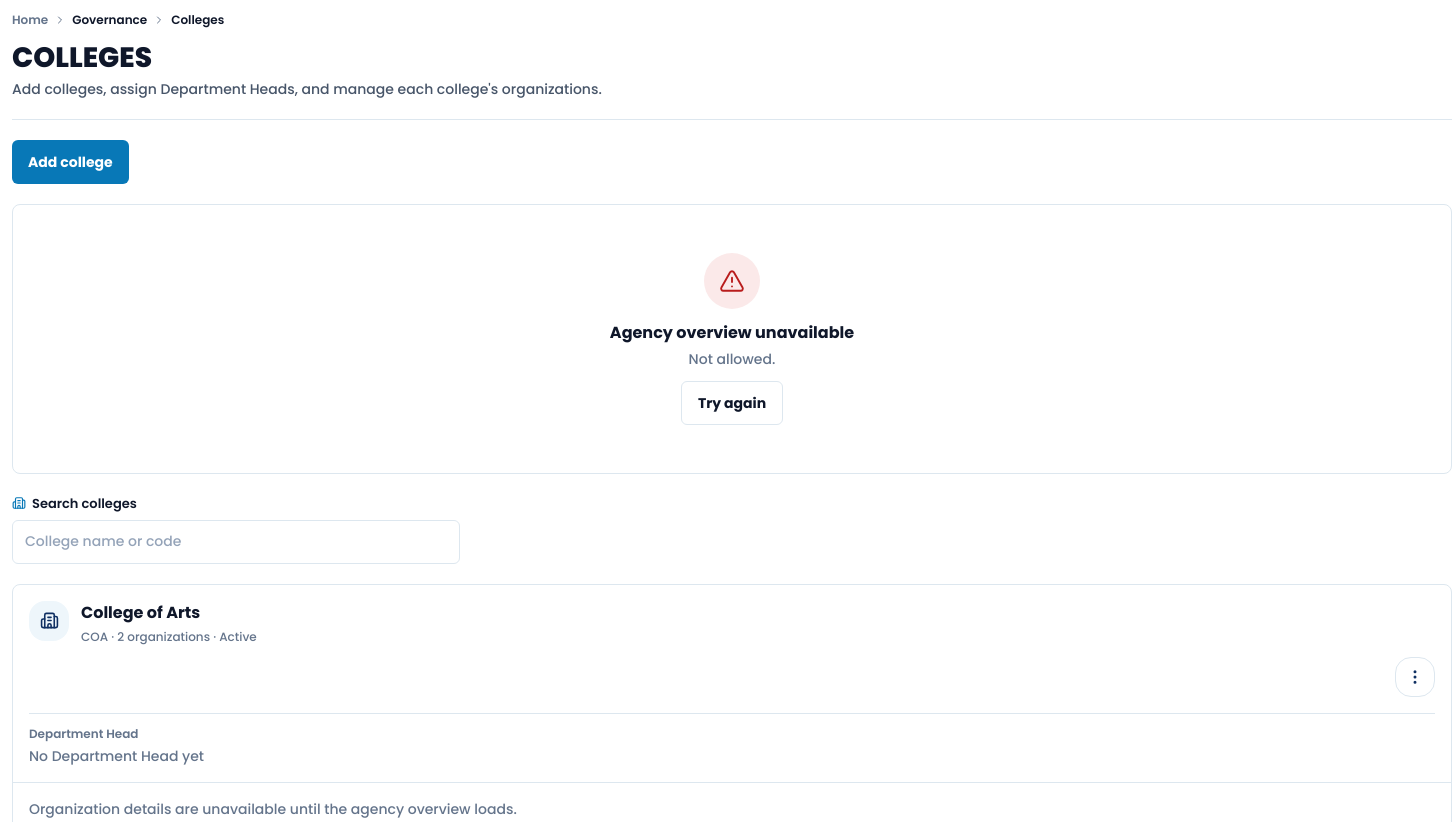
SystemCollegesPage › keeps the college cards and Assign Department Head when only the agency read fails, with an inline error and retry in place of the tiles
Expected: the heading "College of Arts" is shown, [81,600,200,624]
Click the button named "Actions for " at coordinates (1415, 676), box [1395,656,1435,696]
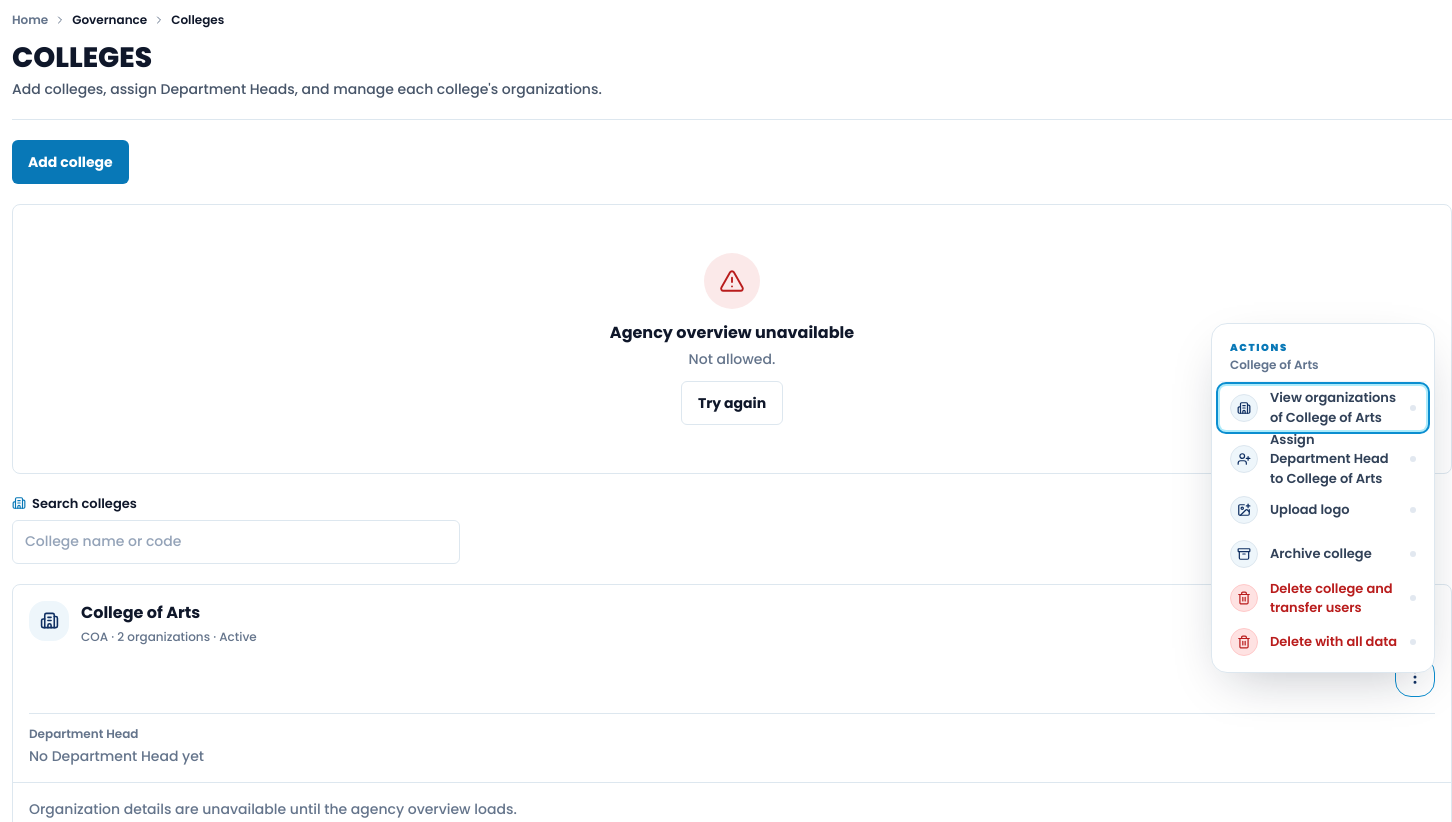
Expected: the text "Not allowed." is shown, [689,349,775,369]
Now the menu item "Assign Department Head to College of Arts" is shown, box [1220,430,1426,488]
Now the menu item "Upload logo" is shown, box [1220,488,1426,532]
Click the button "Try again" at coordinates (732, 403), box [681,381,783,425]
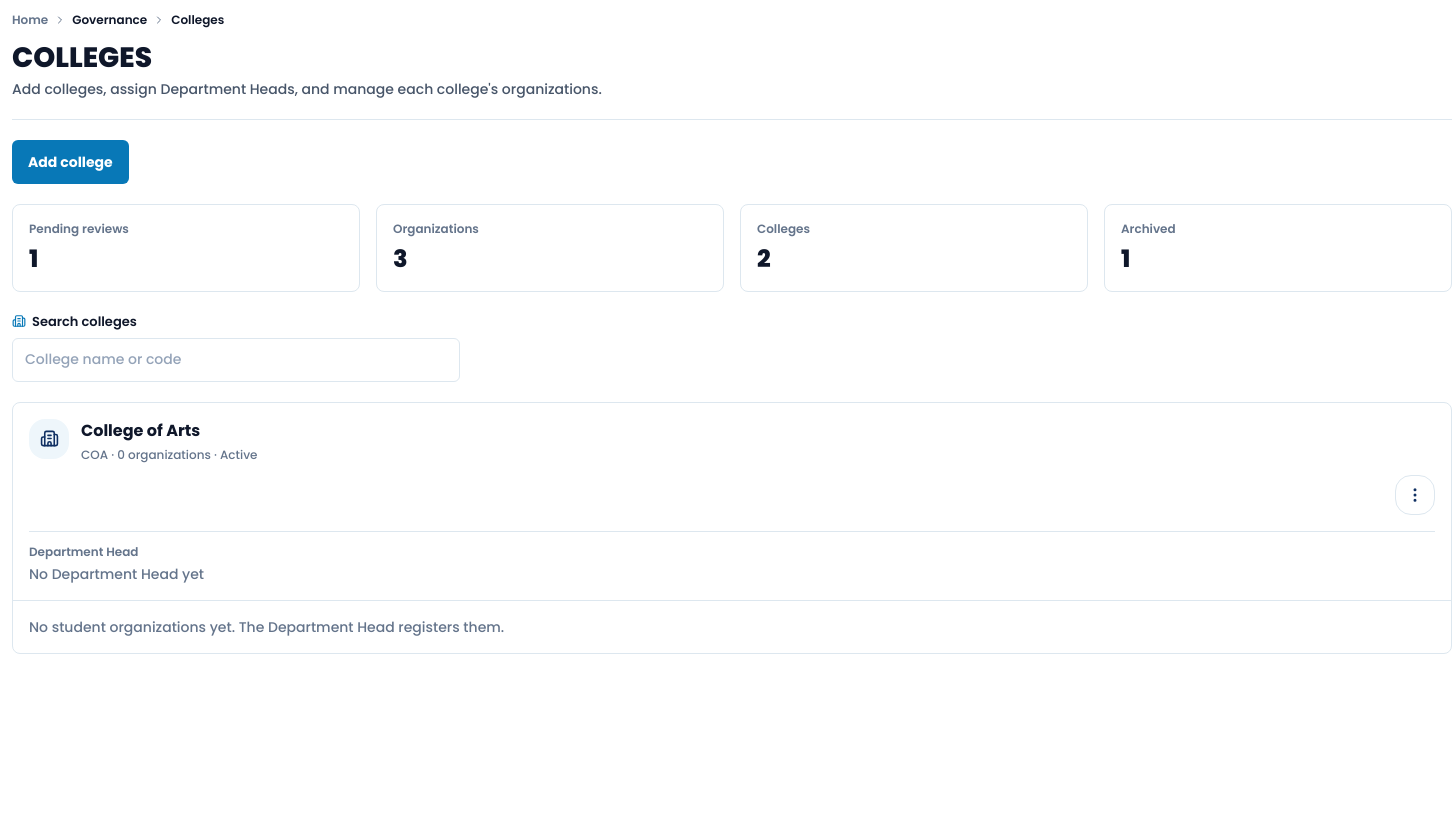
Now the element named "Agency totals" is shown, box [12,204,1451,292]
Now the text "Not allowed." is gone
